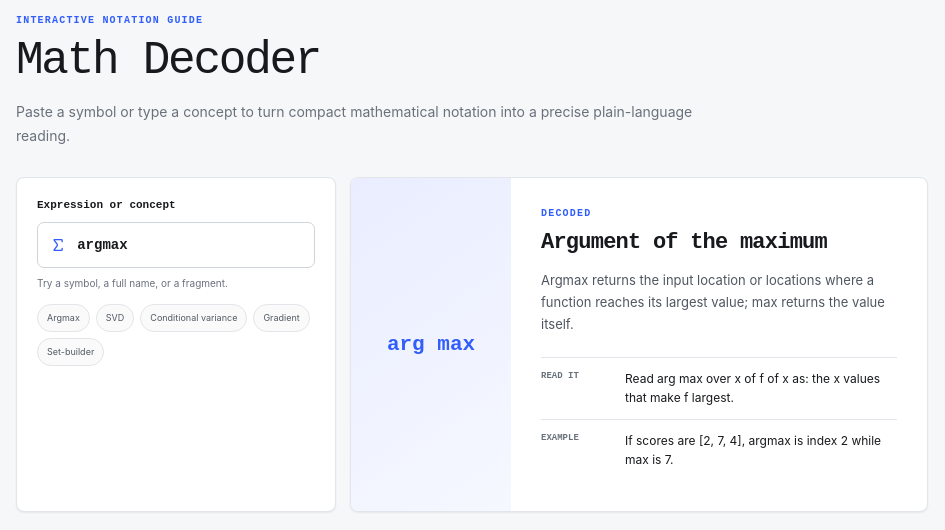
Test case: MathDecoder › offers clickable examples and a useful unknown-state explanation
Click the button "Conditional variance" at {"x": 194, "y": 318}, box [140, 304, 247, 332]
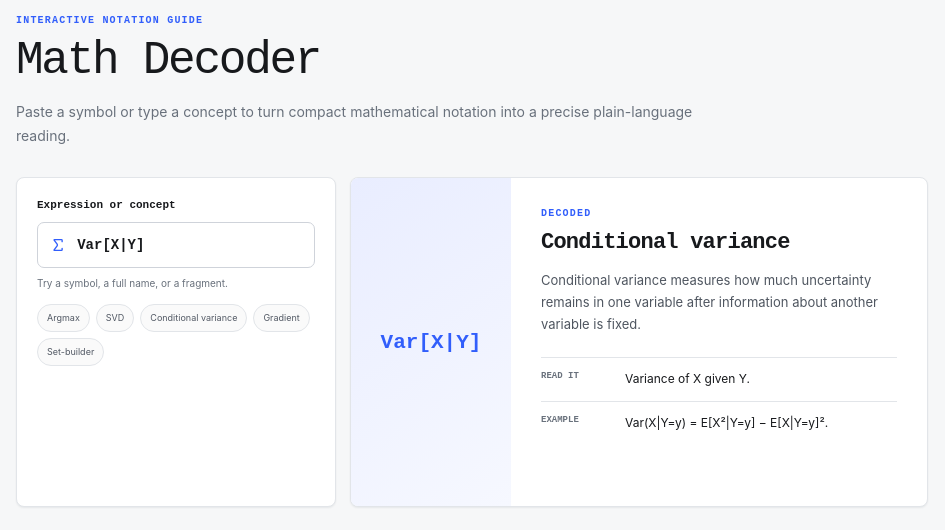
Check: the heading "Conditional variance" is shown, box [541, 230, 790, 255]
Replace the text in the field labelled "Expression or concept" with "mystery operator" at {"x": 189, "y": 245}, box [75, 236, 302, 254]
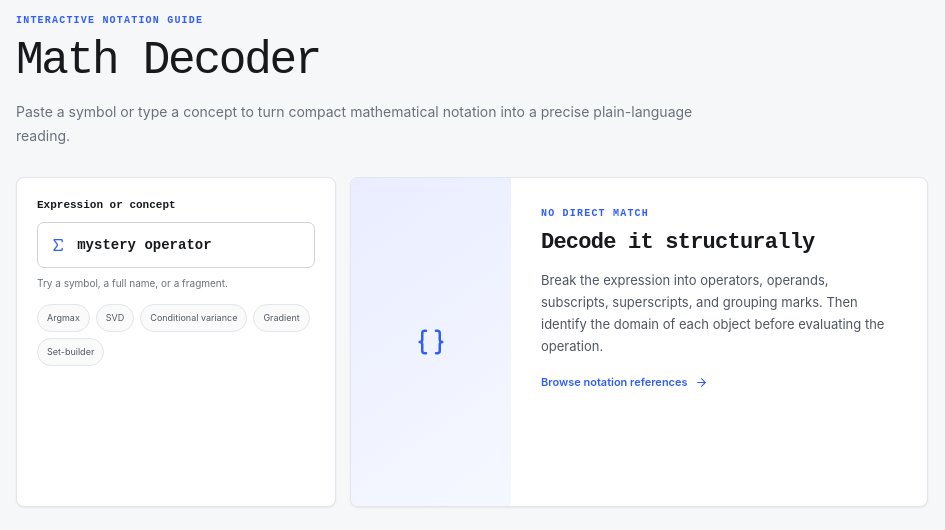
Check: the text "Break the expression into operators" is shown, box [541, 272, 884, 354]
